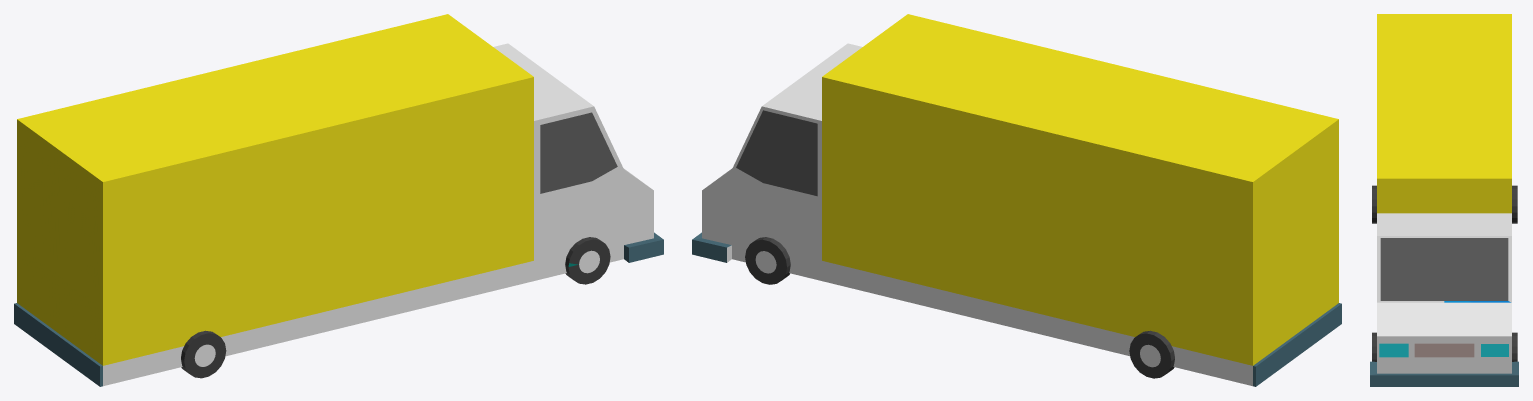
Rendered from Kamionce3x1Yellow.fbx.
3 renders of one model, left to right at view 1: azimuth 30°, elevation 25°; view 2: azimuth 150°, elevation 25°; view 3: azimuth 270°, elevation 25°, orthographic. The views are drawn at different scales.
Visible parts, largest first — view 1: Car_08_4; view 2: Car_08_4; view 3: Car_08_4.
Boxes of the visible parts, x1,y1,x2,y2 form: Car_08_4: (14, 14, 663, 386); Car_08_4: (692, 14, 1341, 386); Car_08_4: (1370, 14, 1518, 386).
Size of the model in its own units: 2.98 by 1.1 by 0.8755.
Materials: 1 (1 with a texture image).
